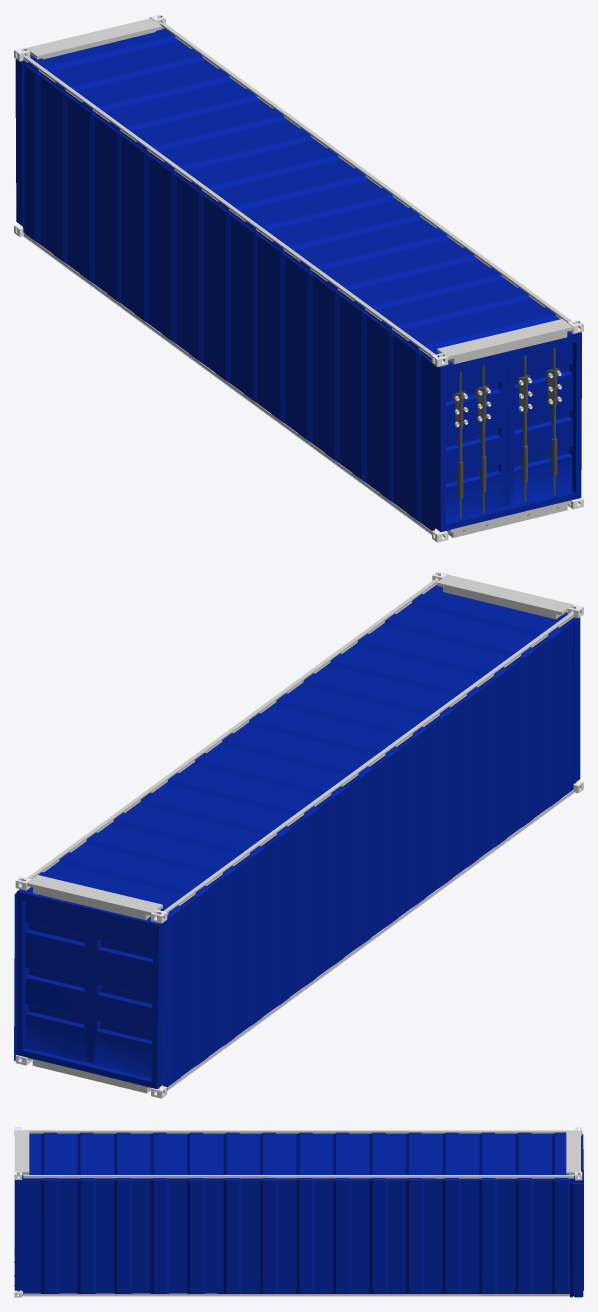
Rendered from container_join.fbx.
3 renders of one model, top to bottom at view 1: azimuth 30°, elevation 25°; view 2: azimuth 150°, elevation 25°; view 3: azimuth 270°, elevation 25°, orthographic. The views are drawn at different scales.
Parts seen in each view (by area): view 1: Cube_001; view 2: Cube_001; view 3: Cube_001.
Boxes of the visible parts, x1,y1,x2,y2 form: Cube_001: [14, 14, 583, 542]; Cube_001: [14, 571, 583, 1098]; Cube_001: [14, 1127, 583, 1297].
Bounding box in the file's own units: 244 × 292 × 1219.
